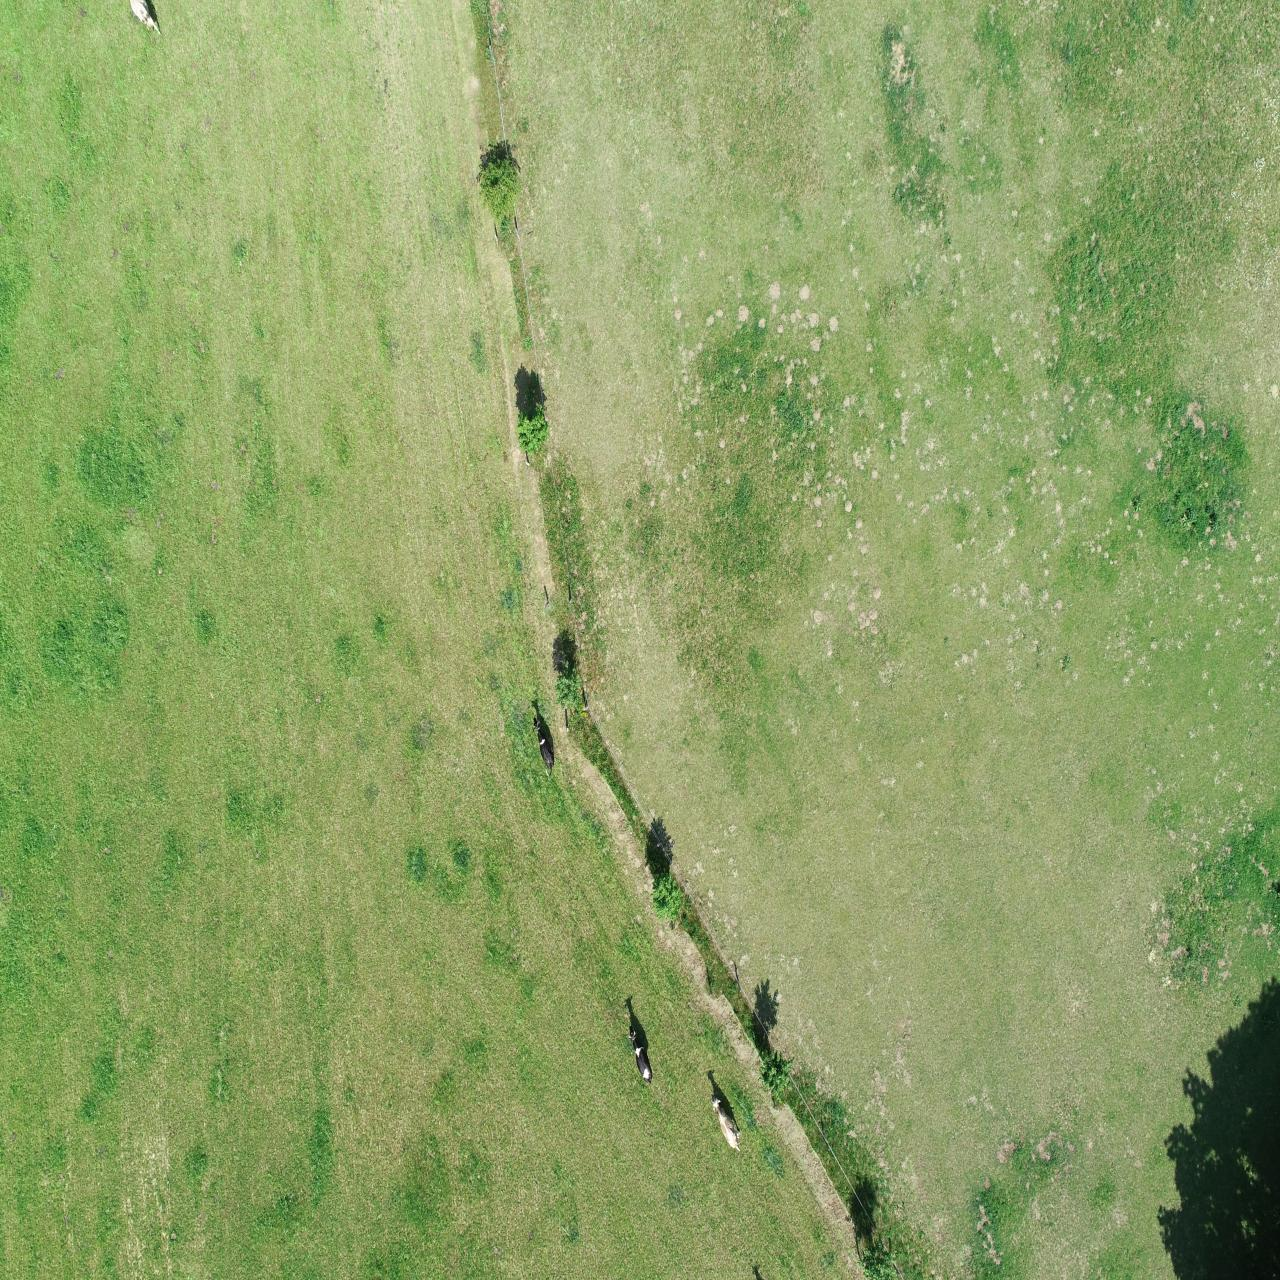cow: (707, 1090, 745, 1157), (626, 1022, 655, 1087), (530, 715, 558, 778)
